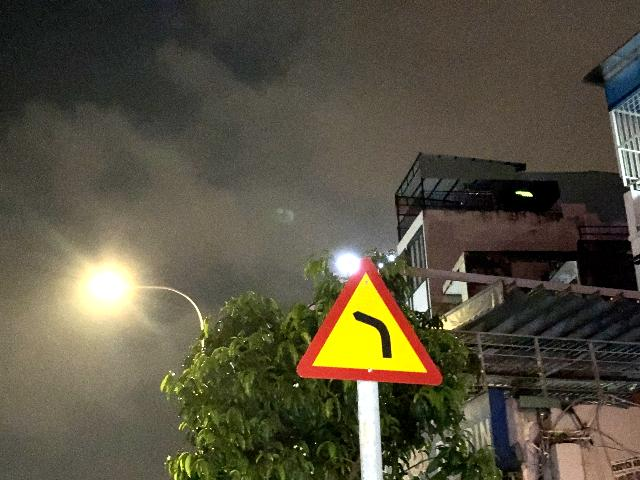cho-ngoat-nguy-hiem-ben-trai: (294, 256, 444, 387)
